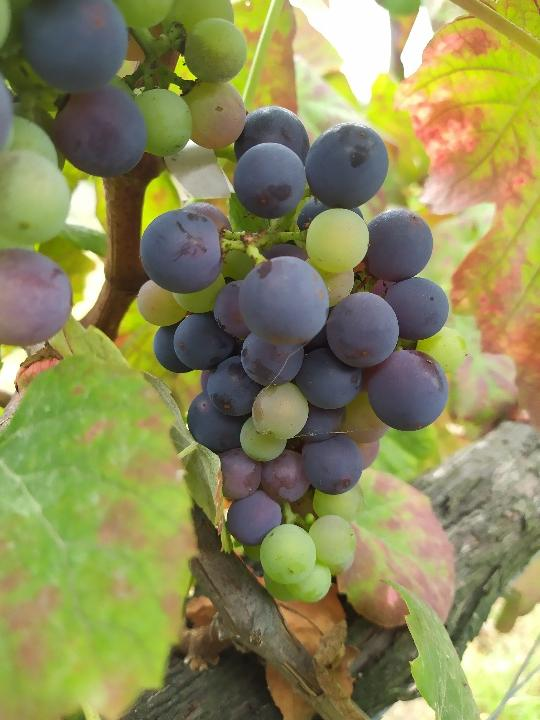grape: (130, 104, 454, 606)
